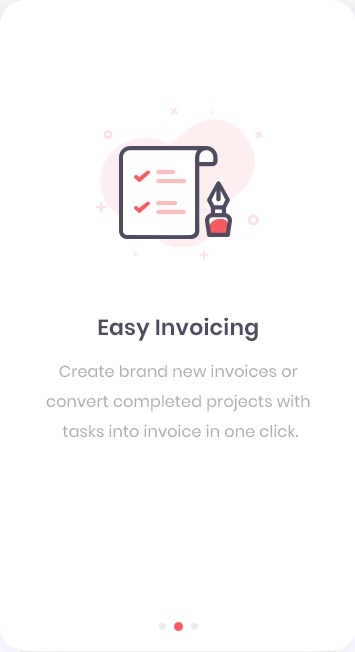Image: (96, 107, 264, 260)
PageIndicator: (158, 621, 200, 632)
Text: (47, 364, 311, 439), (99, 317, 259, 342)
